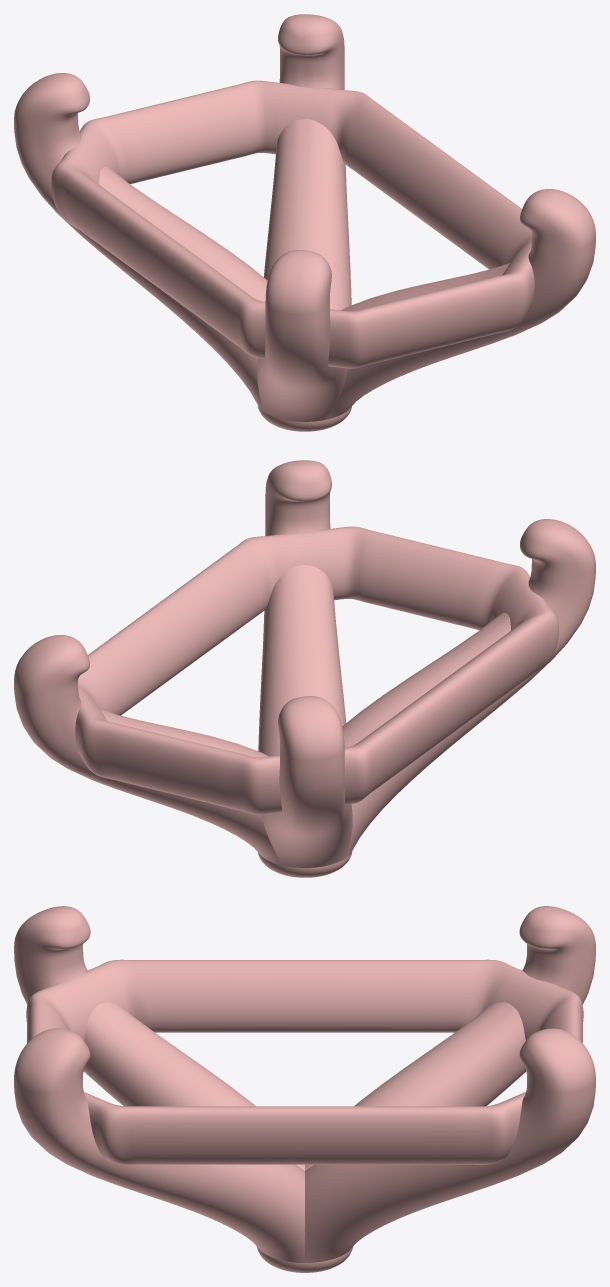
The model's file is EMERALD.glb.
The picture shows the model from 3 angles, top to bottom: view 1: azimuth 30°, elevation 25°; view 2: azimuth 150°, elevation 25°; view 3: azimuth 270°, elevation 25°; orthographic projection.
Parts seen in each view (by area): view 1: emerald; view 2: emerald; view 3: emerald.
Part boxes in pixels (x1,y1,x2,y2): emerald: [14, 14, 595, 431]; emerald: [14, 460, 595, 877]; emerald: [14, 906, 595, 1272].
Bounding box in the file's own units: 5.12 × 4.3 × 7.8.
